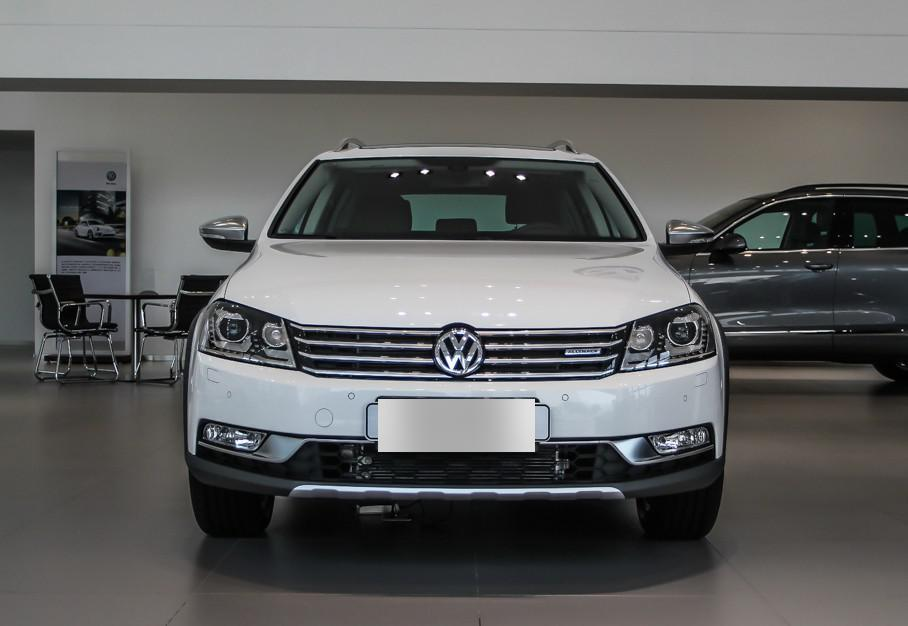Wagon: (180, 136, 732, 540)
